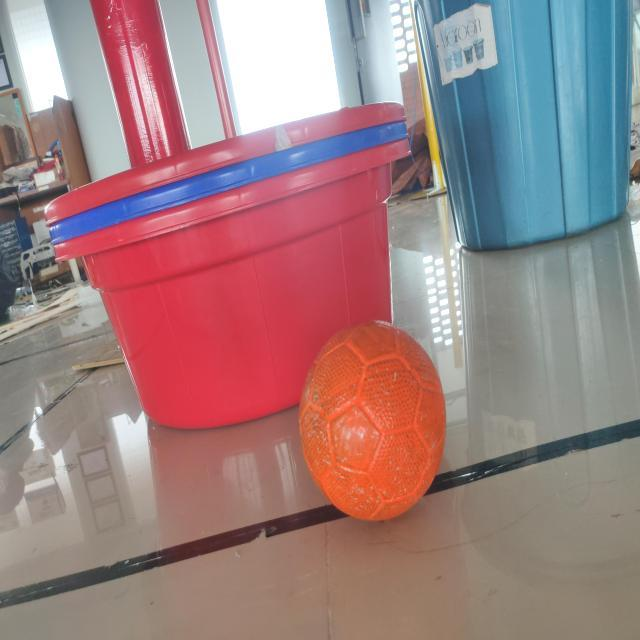bola: (281, 313, 468, 526)
